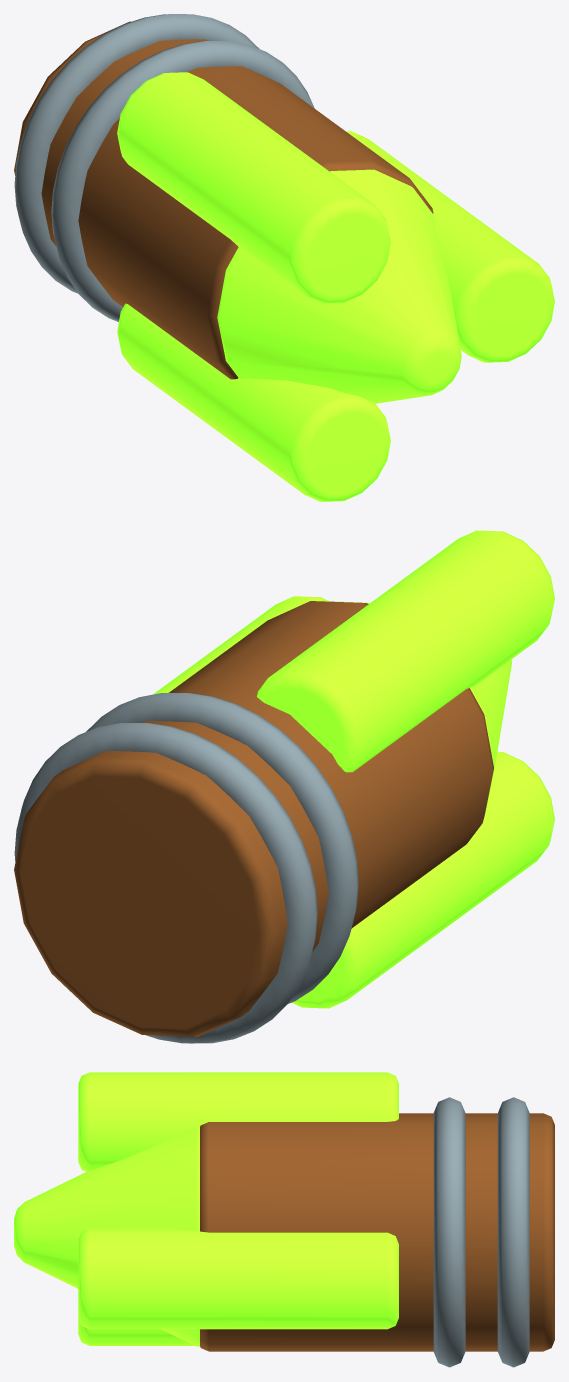
Rendered from Carrot_Special.fbx.
3 renders of one model, top to bottom at view 1: azimuth 30°, elevation 25°; view 2: azimuth 150°, elevation 25°; view 3: azimuth 270°, elevation 25°, orthographic. The views are drawn at different scales.
Parts seen in each view (by area): view 1: Cluster chamber.001, Artillery casing.001, Ogive.001, Cluster chamber.002, Cluster chamber, Driving band.003, Driving band.002; view 2: Artillery casing.001, Cluster chamber.001, Cluster chamber.002, Driving band.002, Driving band.003, Ogive.001, Cluster chamber; view 3: Artillery casing.001, Cluster chamber, Cluster chamber.001, Ogive.001, Driving band.002, Driving band.003, Cluster chamber.002.
Boxes of the visible parts, bbox=[...] form: Cluster chamber.001: bbox=[117, 72, 390, 303]; Artillery casing.001: bbox=[14, 21, 433, 379]; Ogive.001: bbox=[217, 169, 461, 403]; Cluster chamber.002: bbox=[117, 303, 390, 501]; Cluster chamber: bbox=[346, 131, 554, 362]; Driving band.003: bbox=[51, 41, 314, 321]; Driving band.002: bbox=[14, 14, 259, 293]; Artillery casing.001: bbox=[14, 601, 493, 1036]; Cluster chamber.001: bbox=[257, 530, 554, 772]; Cluster chamber.002: bbox=[292, 751, 554, 1008]; Driving band.002: bbox=[14, 723, 317, 1043]; Driving band.003: bbox=[86, 693, 358, 1003]; Ogive.001: bbox=[320, 601, 511, 813]; Cluster chamber: bbox=[153, 596, 328, 694]; Artillery casing.001: bbox=[200, 1113, 554, 1351]; Cluster chamber: bbox=[78, 1228, 398, 1329]; Cluster chamber.001: bbox=[78, 1072, 398, 1171]; Ogive.001: bbox=[14, 1127, 199, 1346]; Driving band.002: bbox=[497, 1097, 529, 1367]; Driving band.003: bbox=[433, 1097, 465, 1367]; Cluster chamber.002: bbox=[78, 1318, 194, 1345].
Bounding box in the file's own units: 64.5 × 63.57 × 118.
